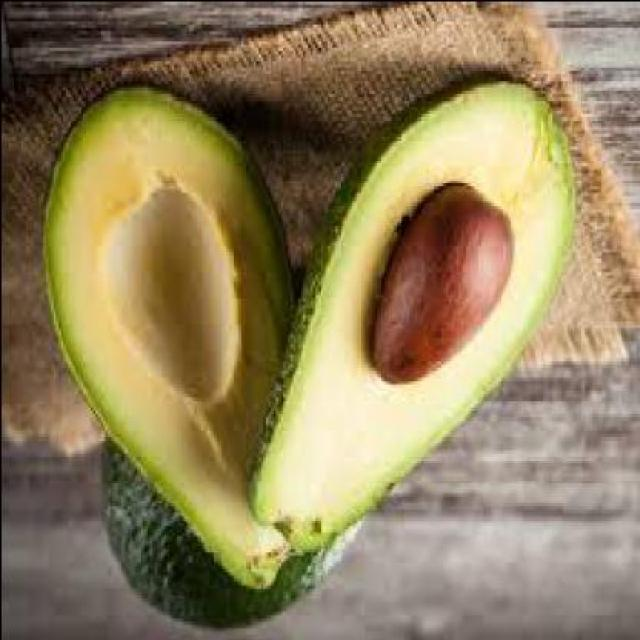BIODEGRADABLE: (250, 79, 578, 558), (41, 86, 302, 594), (102, 396, 366, 633), (373, 185, 515, 386)
